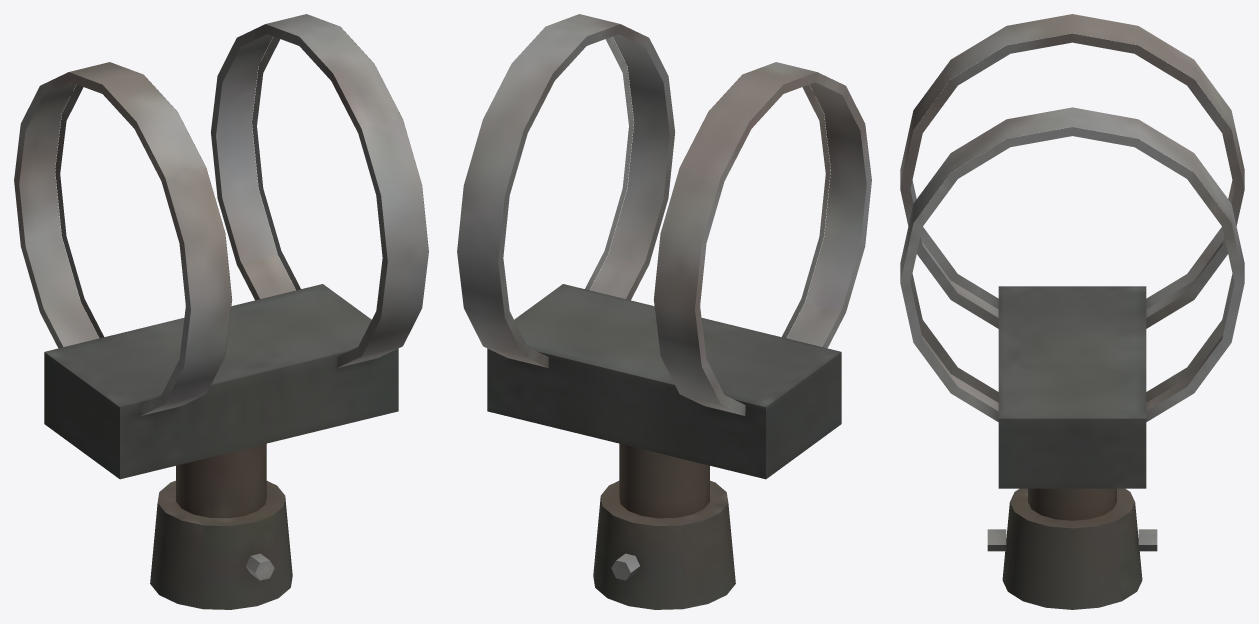
File: mastMount0-v1.glb
3 renders of one model, left to right at view 1: azimuth 30°, elevation 25°; view 2: azimuth 150°, elevation 25°; view 3: azimuth 270°, elevation 25°, orthographic. The views are drawn at different scales.
Visible parts, largest first — view 1: mastMount0-v1; view 2: mastMount0-v1; view 3: mastMount0-v1.
Boxes of the visible parts, x1=… form: mastMount0-v1: x1=14, y1=14, x2=428, y2=609; mastMount0-v1: x1=457, y1=14, x2=871, y2=609; mastMount0-v1: x1=900, y1=14, x2=1244, y2=609.
Bounding box in the file's own units: 0.17 × 0.3055 × 0.187.
1 material, 1 textured.
